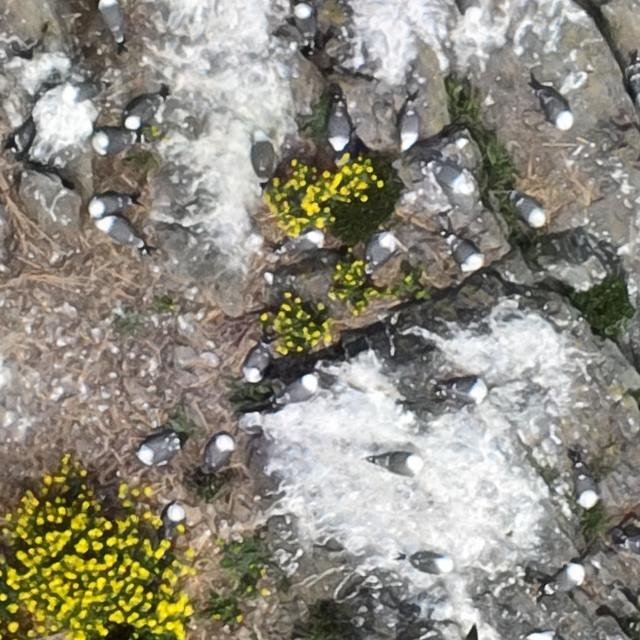umineko: (426, 158, 476, 194), (240, 336, 276, 386), (278, 372, 318, 410), (252, 136, 282, 182), (103, 219, 141, 246), (139, 436, 175, 462), (513, 196, 544, 225), (329, 108, 350, 150), (100, 1, 122, 38), (544, 97, 571, 127), (452, 241, 480, 269), (550, 566, 580, 592), (126, 99, 152, 128), (208, 435, 232, 466), (98, 131, 135, 151), (400, 110, 419, 148), (380, 452, 418, 471), (369, 235, 393, 264), (290, 228, 324, 248), (447, 380, 482, 399), (91, 195, 125, 214), (411, 555, 447, 572), (295, 4, 313, 38), (577, 473, 596, 503), (164, 504, 184, 524), (263, 272, 290, 286)
